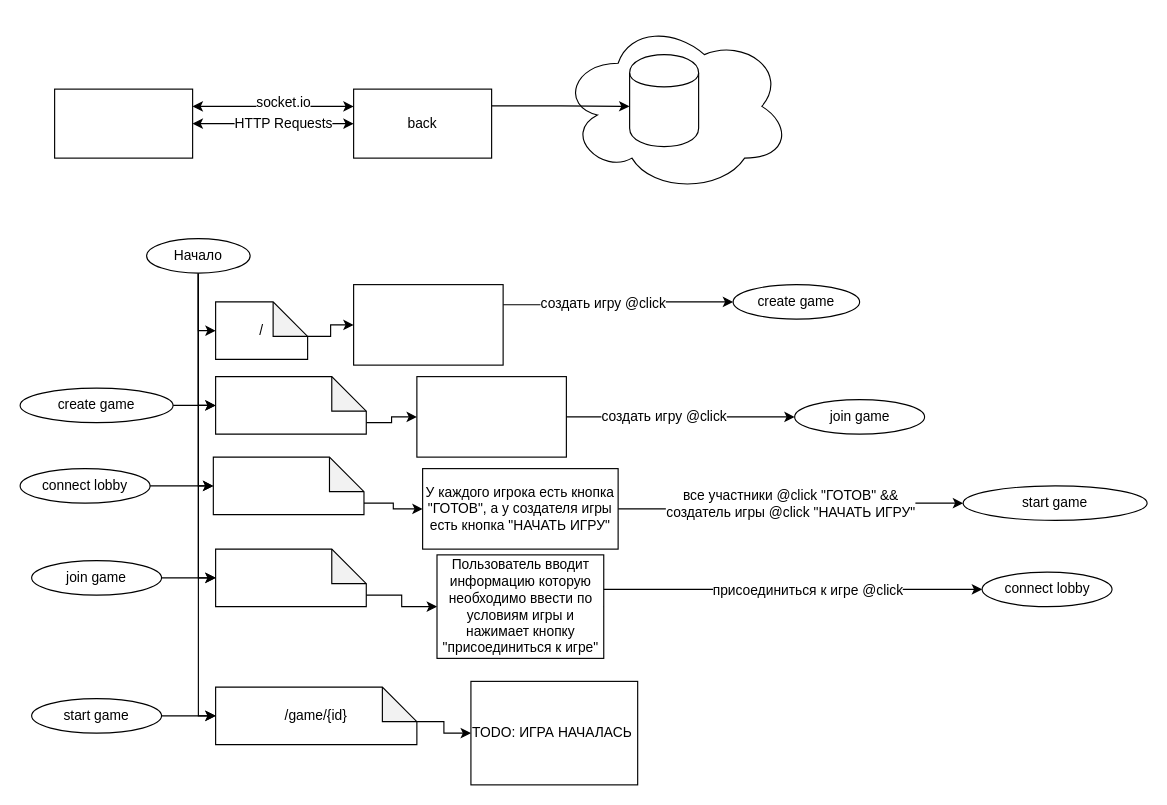
Some shapes in this 1167 by 805 pixel diagram are drawn without their labels. The box of each missing label's shape, as (x1, y1, x2, y2) in pixels:
/create/: (214, 375, 366, 434)
/join/{id}: (214, 548, 366, 607)
/lobby/{id}: (212, 456, 364, 515)
firebase: (628, 53, 699, 147)
front: (53, 88, 193, 158)
User заходит в приложение видит кнопку "создать игру": (352, 283, 503, 365)
Пользователь вводит данные об игре и нажимает "создать игру": (416, 375, 566, 457)
